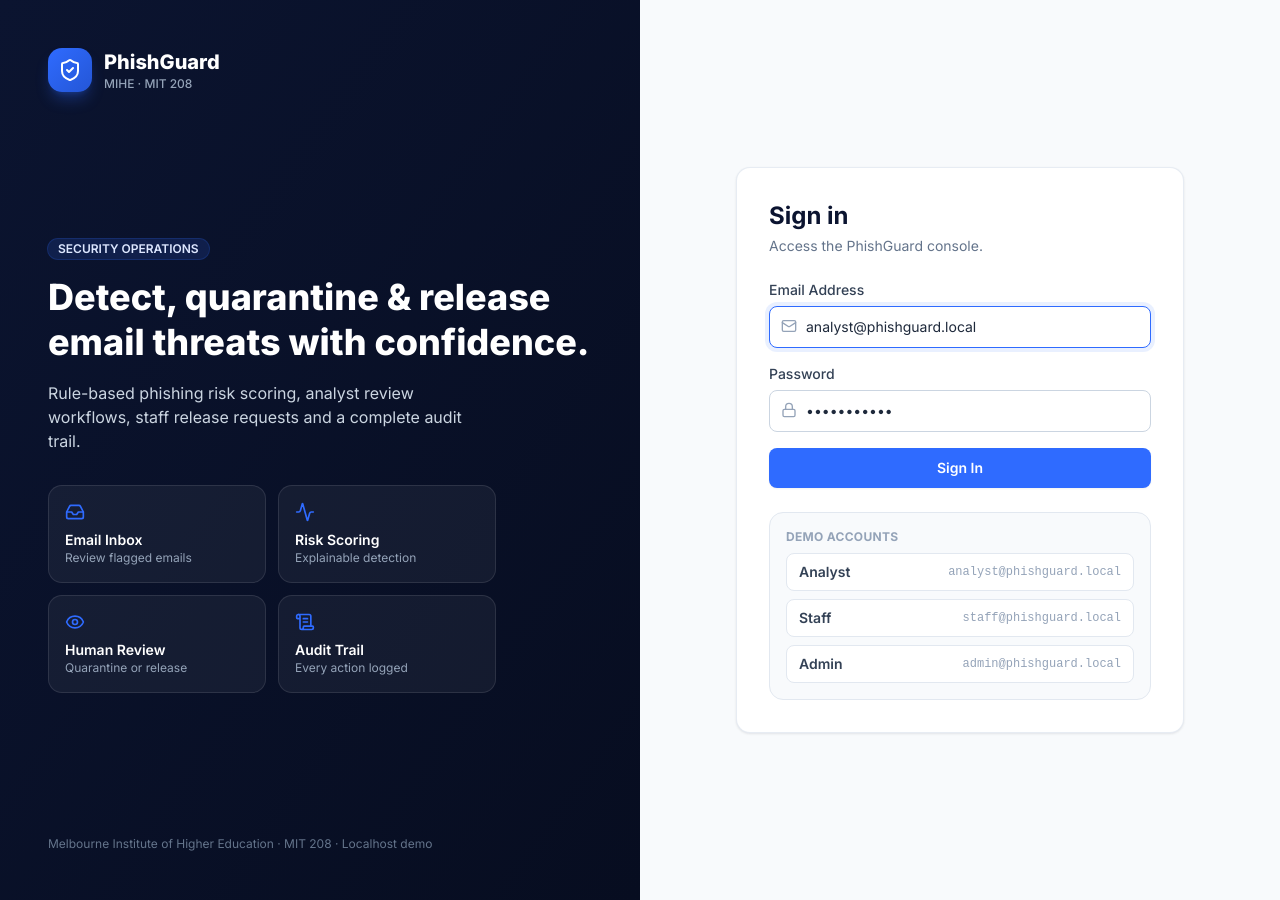
Test: Login › shows the rate-limit message after too many attempts
Click the button "Sign In": click(960, 468) 769,448 -> 1151,488
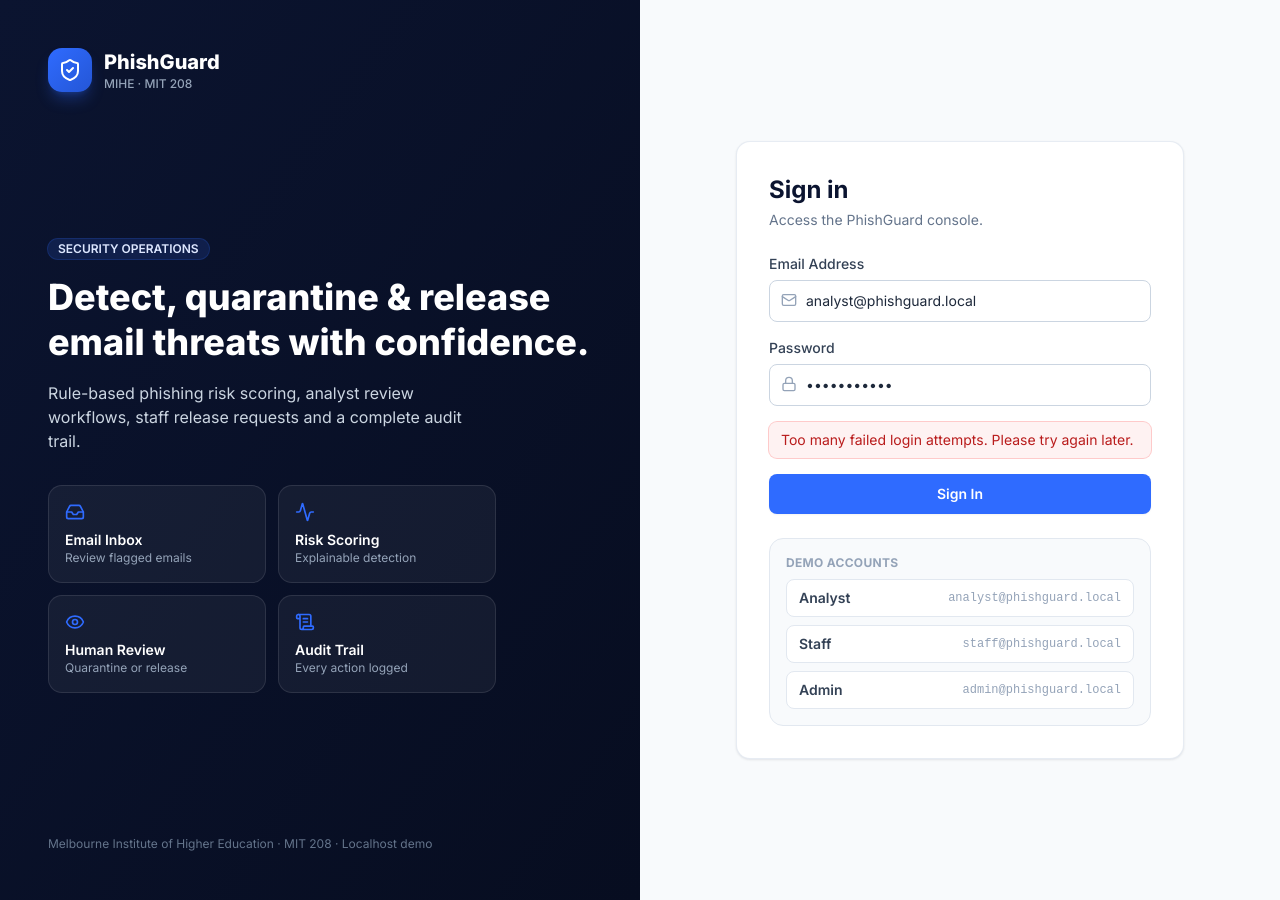
Result: the text "Too many failed login attempts. Please try again later." is shown at 769,422 -> 1151,458
